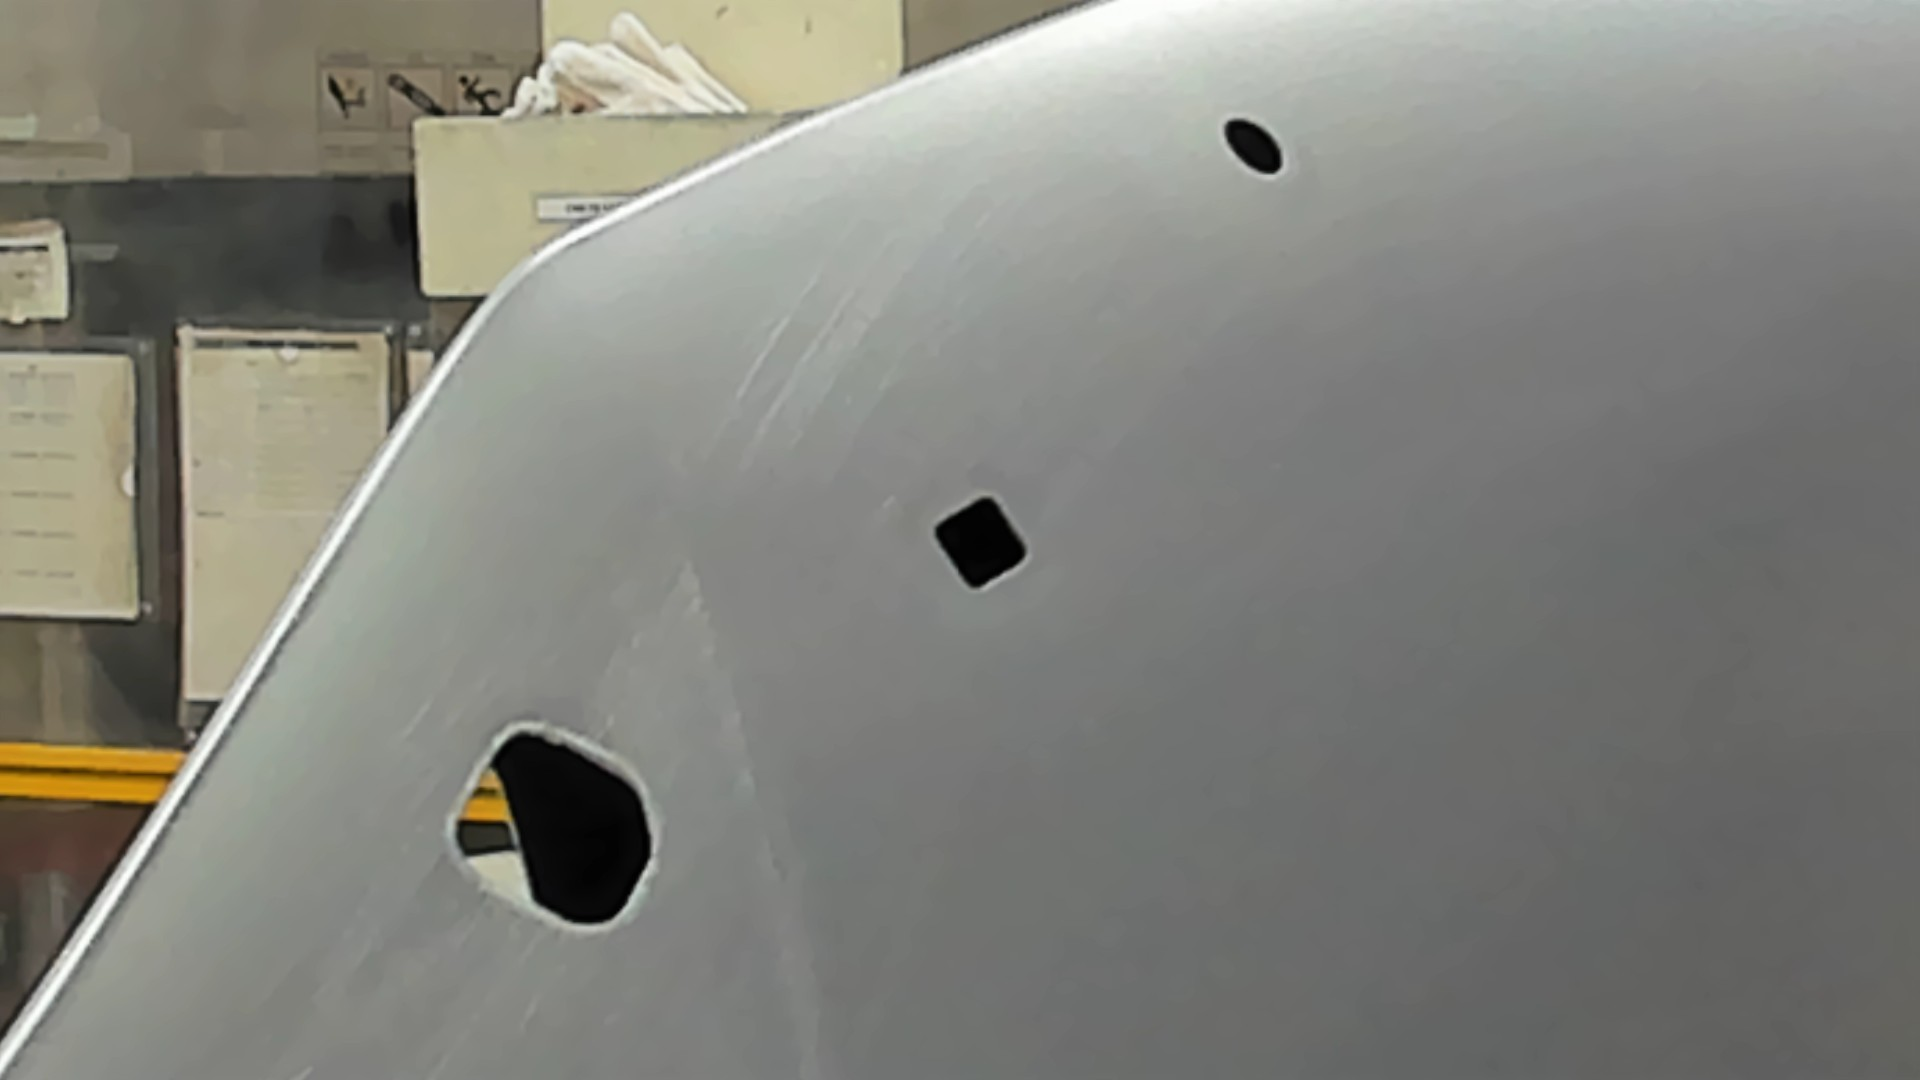chico: (1215, 111, 1288, 181)
grande: (436, 720, 665, 938)
mediano: (927, 491, 1034, 597)
